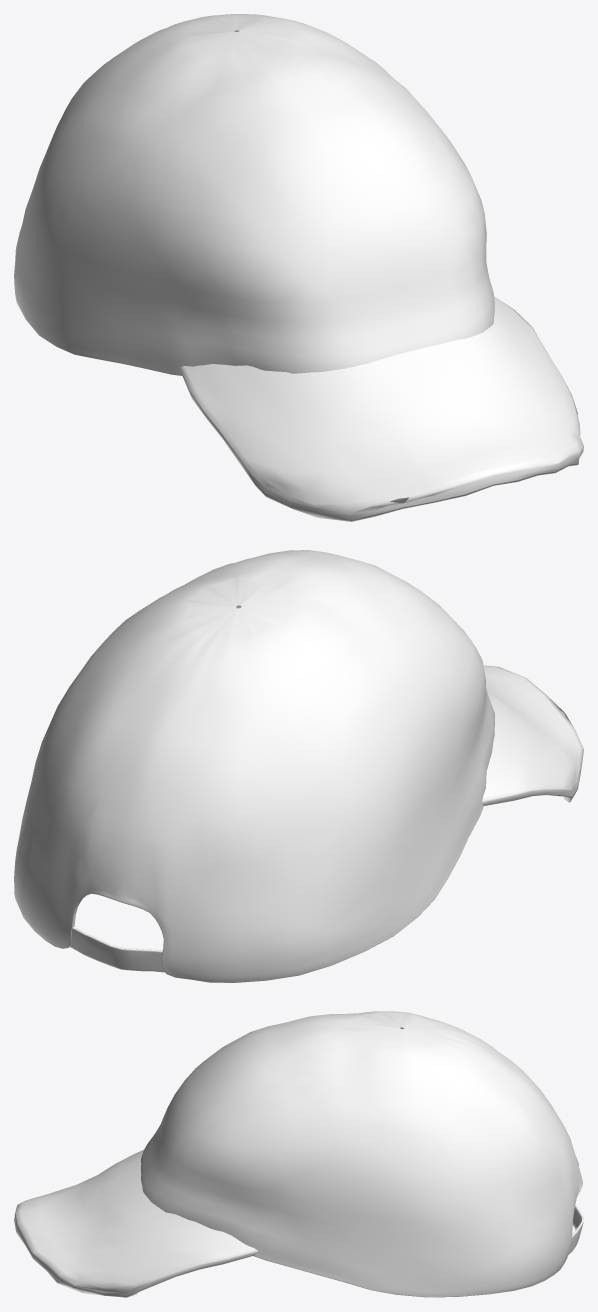
The model's file is ONFIT_Cap_Neutral_v1.glb.
The picture shows the model from 3 angles, top to bottom: view 1: azimuth 30°, elevation 25°; view 2: azimuth 150°, elevation 25°; view 3: azimuth 270°, elevation 25°; orthographic projection. The views are drawn at different scales.
Visible parts, largest first — view 1: ONFIT_Cap; view 2: ONFIT_Cap; view 3: ONFIT_Cap.
Part boxes in pixels (bbox=[...]): ONFIT_Cap: bbox=[14, 14, 583, 521]; ONFIT_Cap: bbox=[14, 550, 583, 982]; ONFIT_Cap: bbox=[14, 1011, 583, 1297].
Bounding box in the file's own units: 0.1525 × 0.1205 × 0.2766.
1 material, 1 textured.
